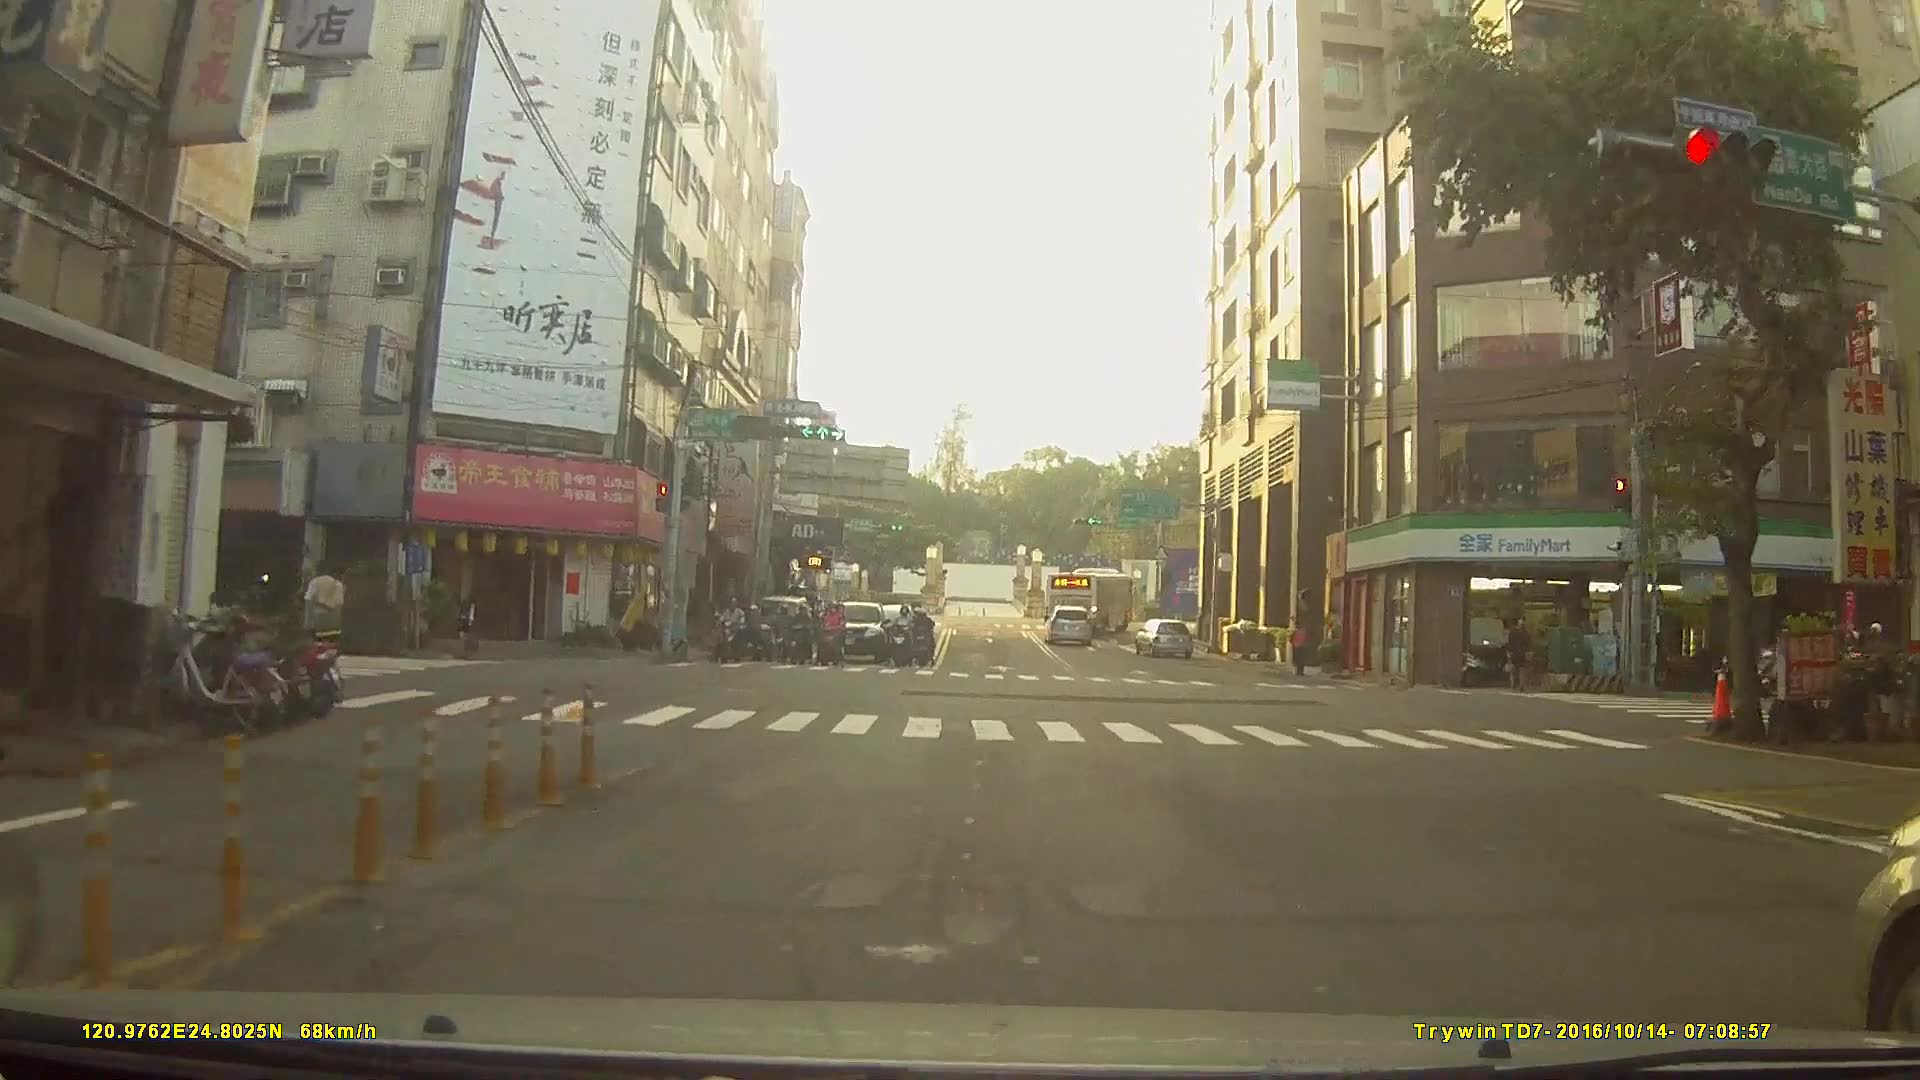pedestrian: (297, 547, 352, 684), (1507, 615, 1531, 692), (460, 597, 487, 659), (1289, 621, 1312, 679)
rider: (714, 598, 748, 665), (817, 603, 849, 673), (784, 607, 815, 665), (914, 604, 940, 667), (753, 595, 781, 653), (891, 606, 915, 673)
vehicle: (1043, 567, 1137, 630), (821, 596, 890, 664), (1132, 619, 1194, 659), (1045, 603, 1096, 646)
